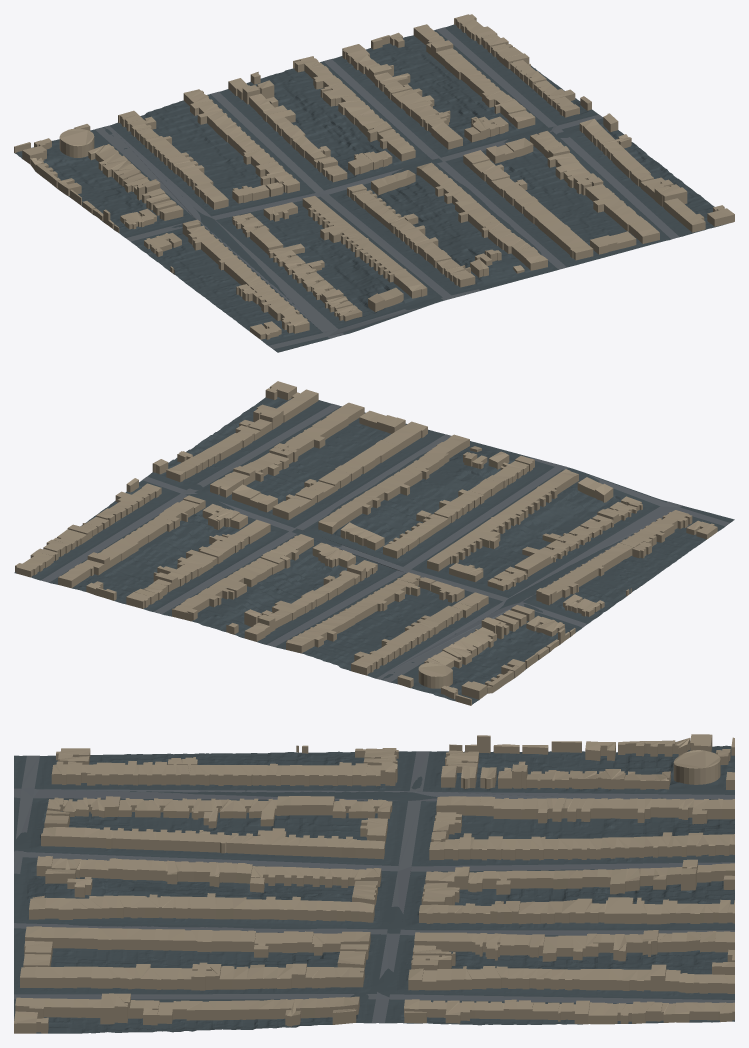
Rendered from epsg26910-1416-10879.lod0.glb.
3 views of the same model, one above another, from view 1: azimuth 30°, elevation 25°; view 2: azimuth 150°, elevation 25°; view 3: azimuth 270°, elevation 25° (orthographic). The views are drawn at different scales.
Visible parts, largest first — view 1: epsg26910-1416-10879-lod0; view 2: epsg26910-1416-10879-lod0; view 3: epsg26910-1416-10879-lod0.
Boxes of the visible parts, left/top/right/bottom form: epsg26910-1416-10879-lod0: left=14, top=14, right=734, bottom=352; epsg26910-1416-10879-lod0: left=14, top=381, right=734, bottom=705; epsg26910-1416-10879-lod0: left=14, top=734, right=734, bottom=1033.
Size of the model in its own units: 384 by 30.95 by 384.
